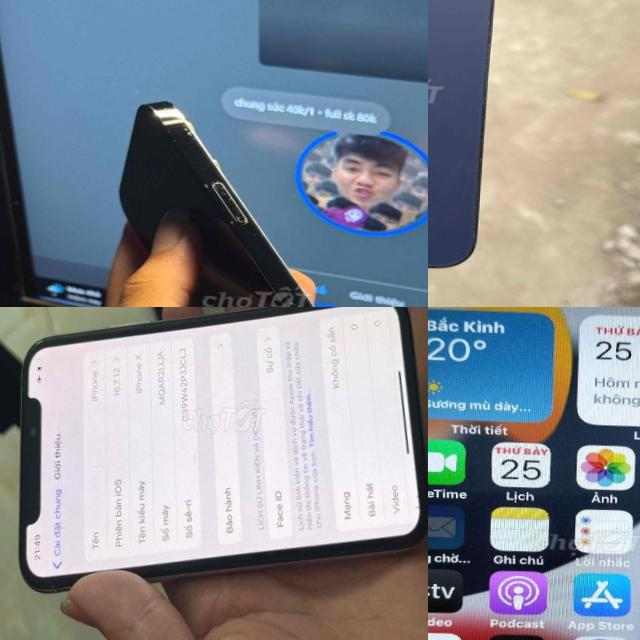gen_12_13: (94, 96, 417, 307)
gen_14: (428, 0, 504, 276)
gen_6: (428, 307, 640, 640)
gen_x_xs: (0, 307, 428, 634)
